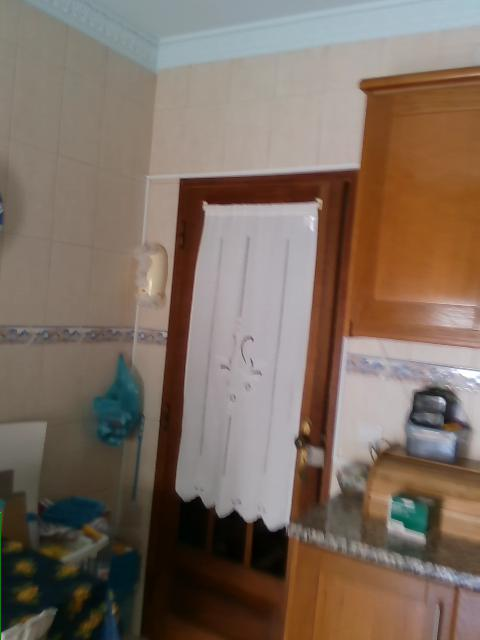closed_door: (138, 169, 358, 639)
